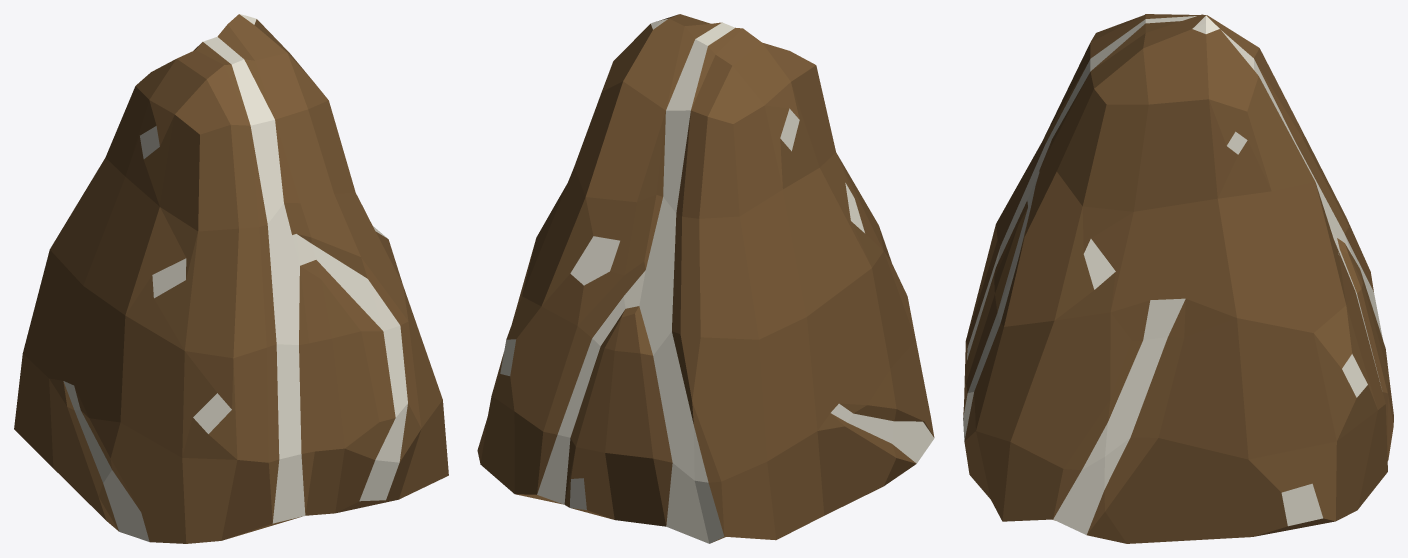
The model's file is TinRock.glb.
3 renders of one model, left to right at view 1: azimuth 30°, elevation 25°; view 2: azimuth 150°, elevation 25°; view 3: azimuth 270°, elevation 25°, orthographic. The views are drawn at different scales.
Parts seen in each view (by area): view 1: TinRock; view 2: TinRock; view 3: TinRock.
Boxes of the visible parts, <box> form: TinRock: <box>14,14,448,543</box>; TinRock: <box>477,14,934,543</box>; TinRock: <box>963,14,1393,543</box>.
Size of the model in its own units: 0.6998 by 0.9335 by 0.7637.
